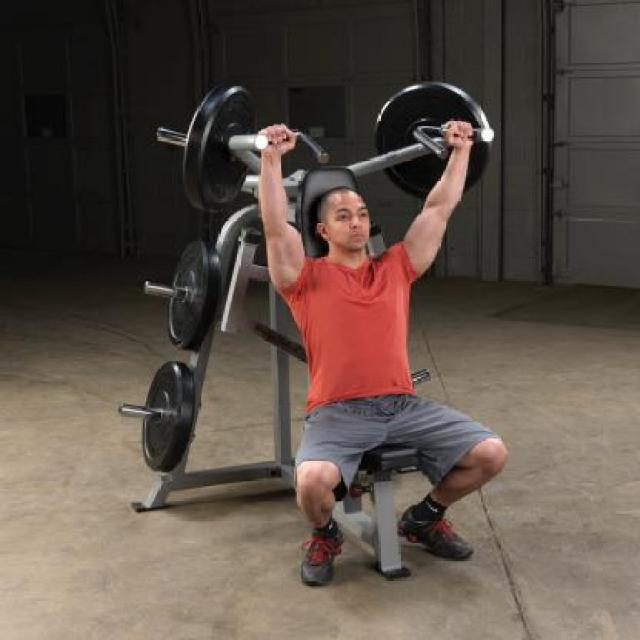shoulder press machine: (108, 50, 560, 592)
